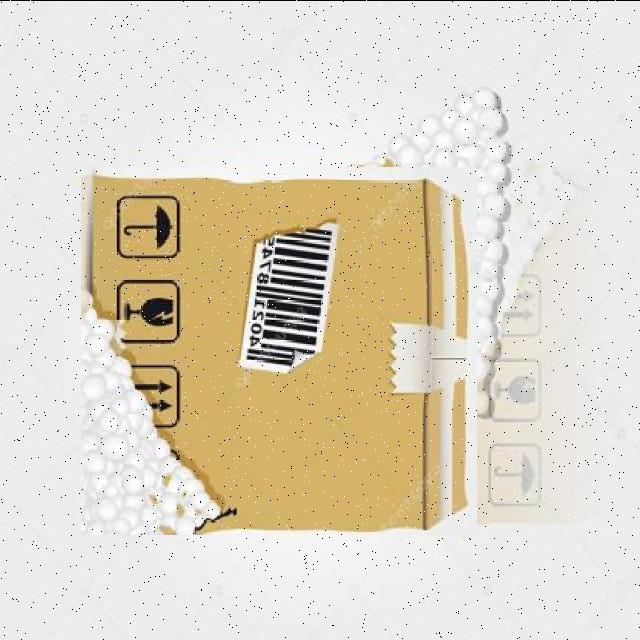defect: (81, 166, 477, 534)
